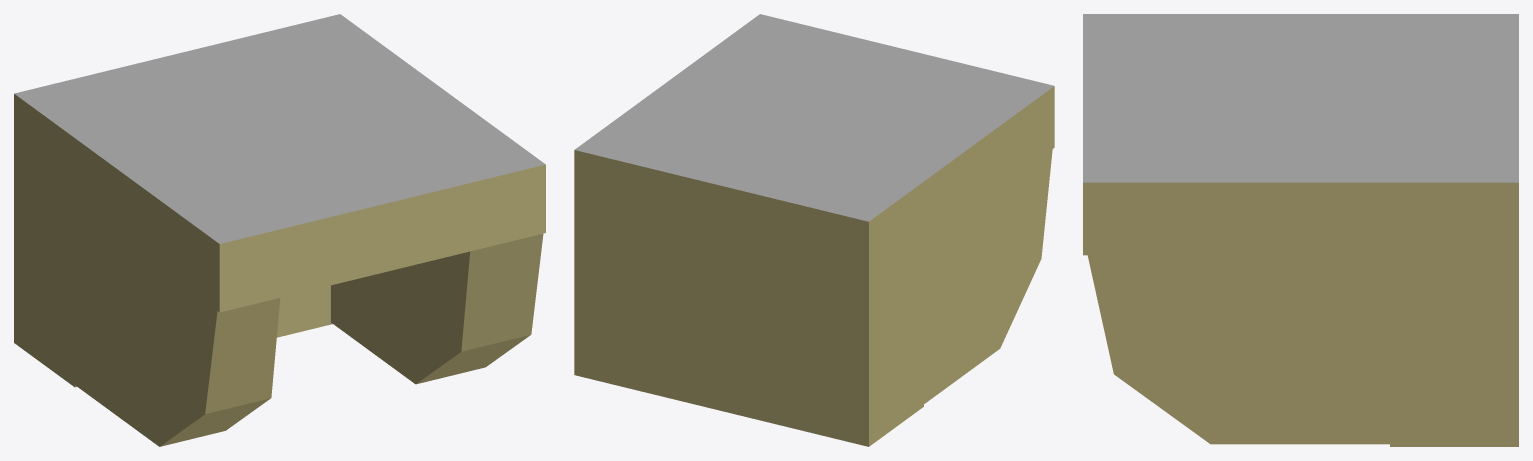
Rendered from dropshipTurret.fbx.
The picture shows the model from 3 angles, left to right: view 1: azimuth 30°, elevation 25°; view 2: azimuth 150°, elevation 25°; view 3: azimuth 270°, elevation 25°; orthographic projection. The views are drawn at different scales.
Parts seen in each view (by area): view 1: GunshipTurret02:Turret; view 2: GunshipTurret02:Turret; view 3: GunshipTurret02:Turret.
Boxes of the visible parts, x1,y1,x2,y2 form: GunshipTurret02:Turret: (14,14,545,446); GunshipTurret02:Turret: (574,14,1054,446); GunshipTurret02:Turret: (1083,14,1518,446).
Bounding box in the file's own units: 0.44 × 0.3214 × 0.4805.
